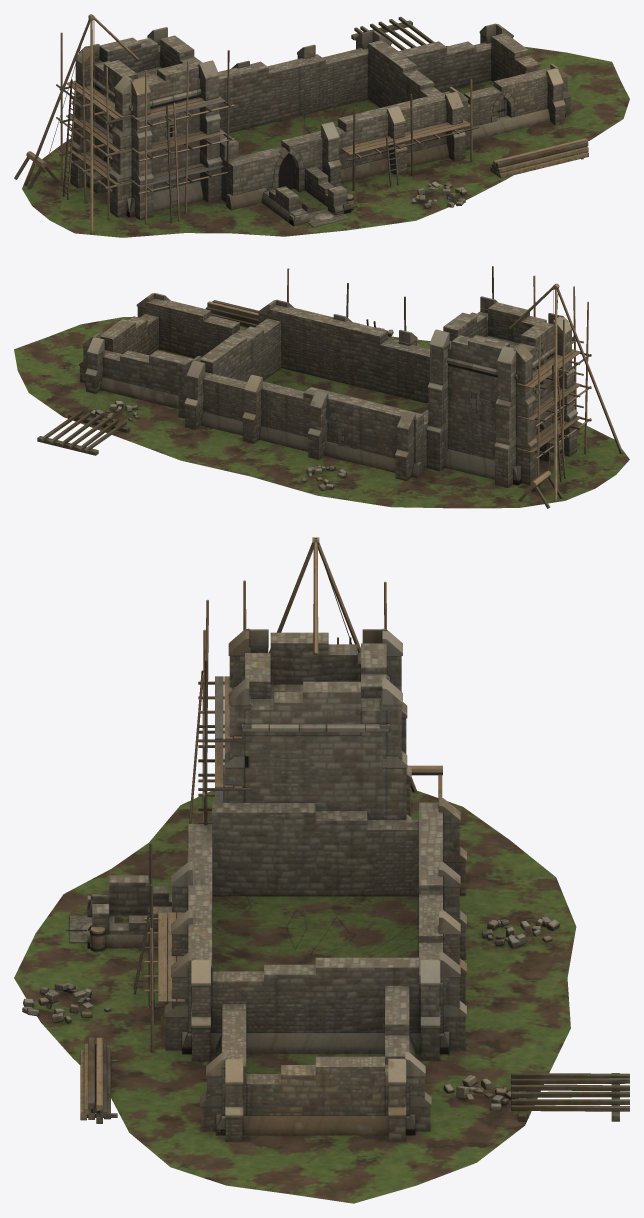
The model's file is church_build2.glb.
3 views of the same model, one above another, from view 1: azimuth 30°, elevation 25°; view 2: azimuth 150°, elevation 25°; view 3: azimuth 270°, elevation 25° (orthographic). The views are drawn at different scales.
Parts seen in each view (by area): view 1: church_build2_LOD0; view 2: church_build2_LOD0; view 3: church_build2_LOD0.
Part boxes in pixels (x1=…): church_build2_LOD0: x1=14, y1=14, x2=629, y2=237; church_build2_LOD0: x1=14, y1=266, x2=629, y2=508; church_build2_LOD0: x1=14, y1=537, x2=629, y2=1203.
Size of what is drawn, in the model's own units: 35.57 by 10.99 by 21.76.
Materials: 1 (1 with a texture image).
